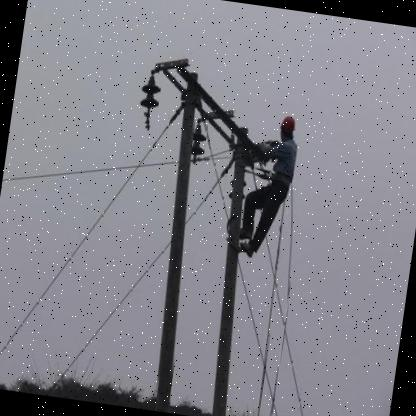capacete: (276, 112, 298, 145)
